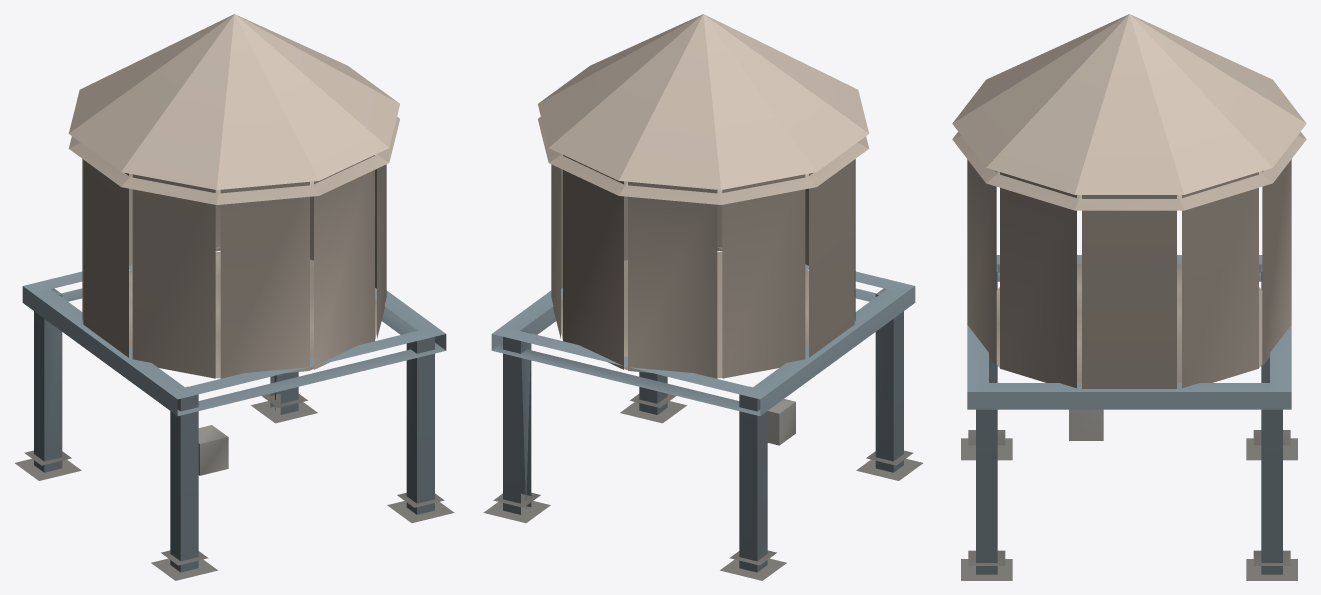
The model's file is watertower.lod.glb.
3 views of the same model, side by side, from view 1: azimuth 30°, elevation 25°; view 2: azimuth 150°, elevation 25°; view 3: azimuth 270°, elevation 25° (orthographic). The views are drawn at different scales.
Visible parts, largest first — view 1: watertower; view 2: watertower; view 3: watertower.
Part boxes in pixels (left/top/right/bottom): watertower: left=15, top=14, right=454, bottom=580; watertower: left=483, top=14, right=922, bottom=580; watertower: left=952, top=14, right=1306, bottom=580.
Bounding box in the file's own units: 3.12 × 5.06 × 3.28.
